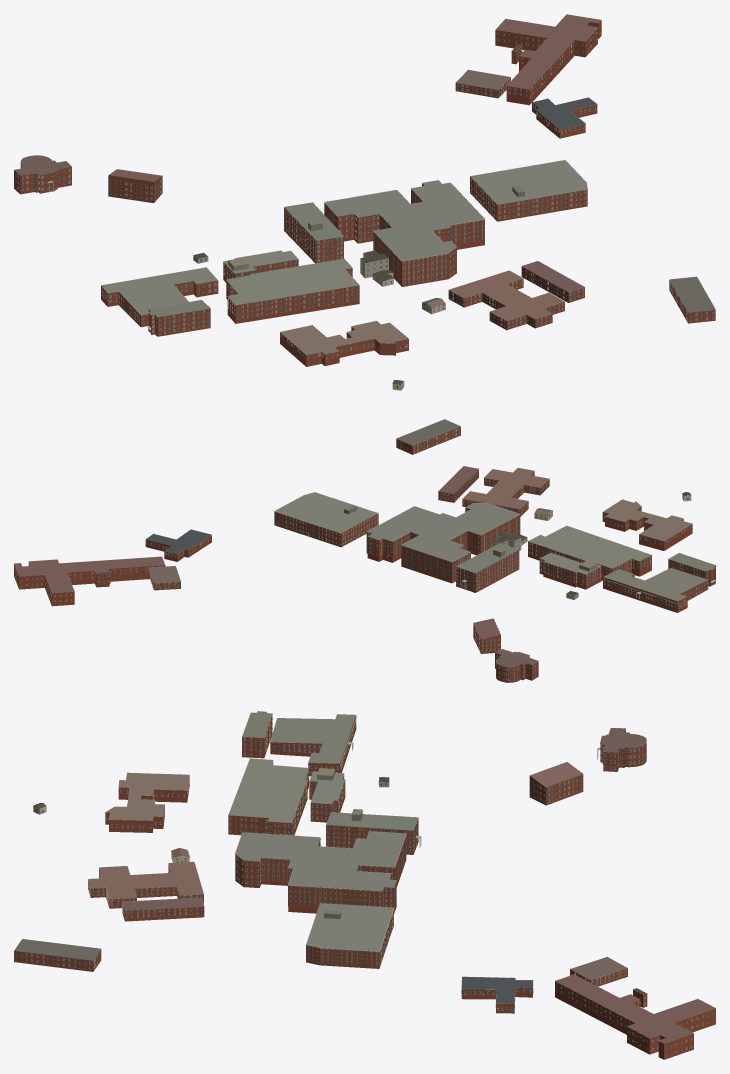
3 renders of one model, top to bottom at view 1: azimuth 30°, elevation 25°; view 2: azimuth 150°, elevation 25°; view 3: azimuth 270°, elevation 25°, orthographic. The views are drawn at different scales.
Parts seen in each view (by area): view 1: -3_0_187869326_1, -3_0_318273986_9; view 2: -3_0_187869326_1, -3_0_318273986_9; view 3: -3_0_187869326_1, -3_0_318273986_9.
Boxes of the visible parts, box(x1,y1,x2,y2) form: -3_0_187869326_1: box(14, 14, 715, 388); -3_0_318273986_9: box(150, 190, 483, 331); -3_0_187869326_1: box(14, 419, 715, 682); -3_0_318273986_9: box(393, 516, 713, 597); -3_0_187869326_1: box(14, 711, 715, 1059); -3_0_318273986_9: box(263, 744, 406, 966).
Bounding box in the file's own units: 565 × 28.94 × 513.
